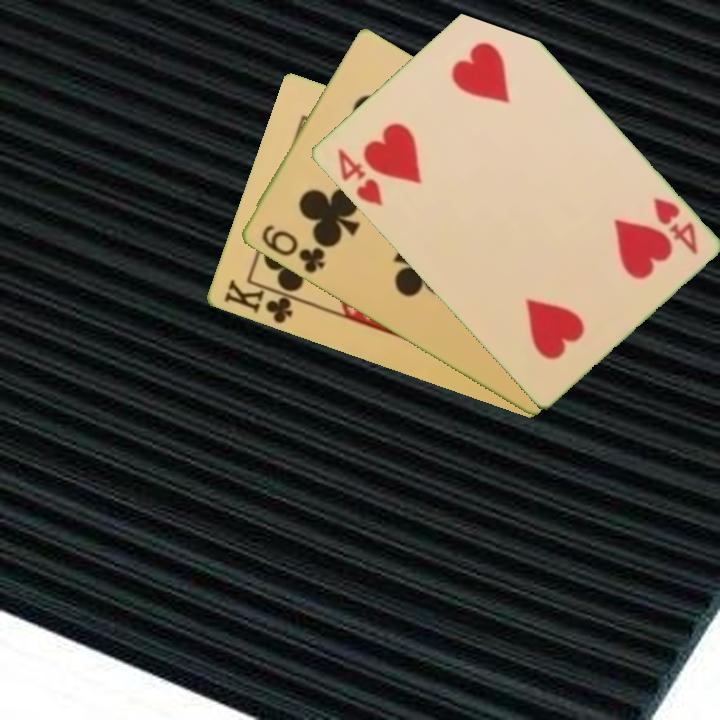4h: (333, 144, 385, 210), (649, 194, 700, 257)
6c: (257, 221, 328, 277)
Kc: (220, 276, 303, 327)
